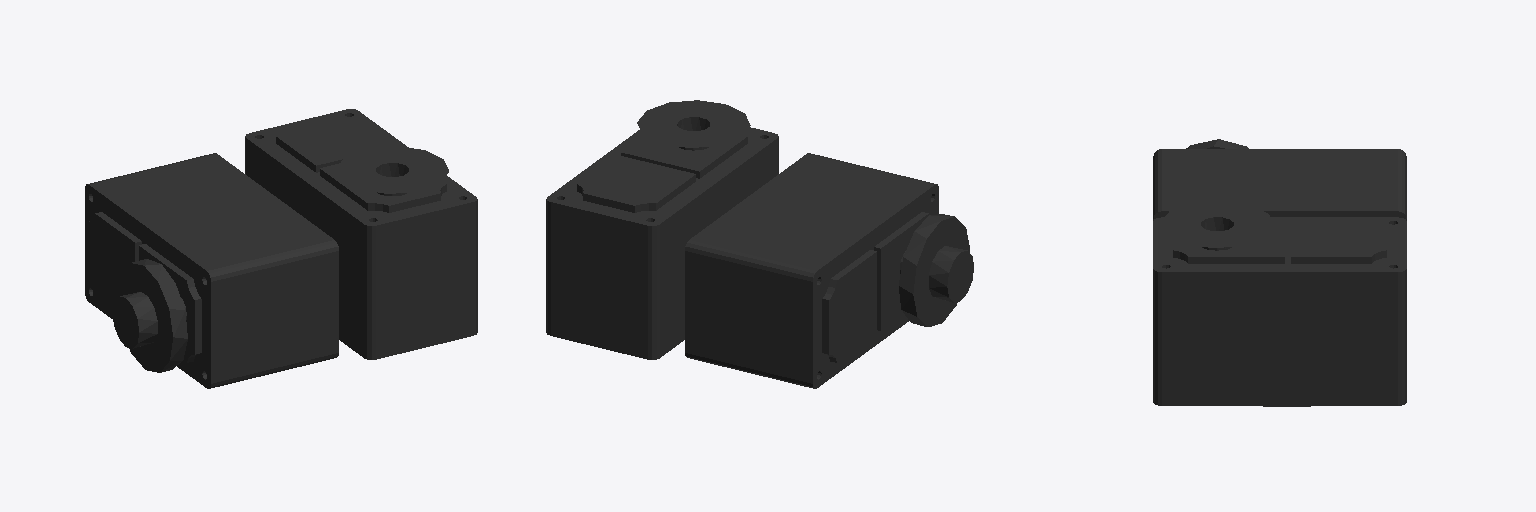
File: arm_v1_1_mesh_3.obj
3 views of the same model, side by side, from view 1: azimuth 30°, elevation 25°; view 2: azimuth 150°, elevation 25°; view 3: azimuth 270°, elevation 25° (orthographic).
Bounding box in the file's own units: 0.0653 × 0.0322 × 0.0443.